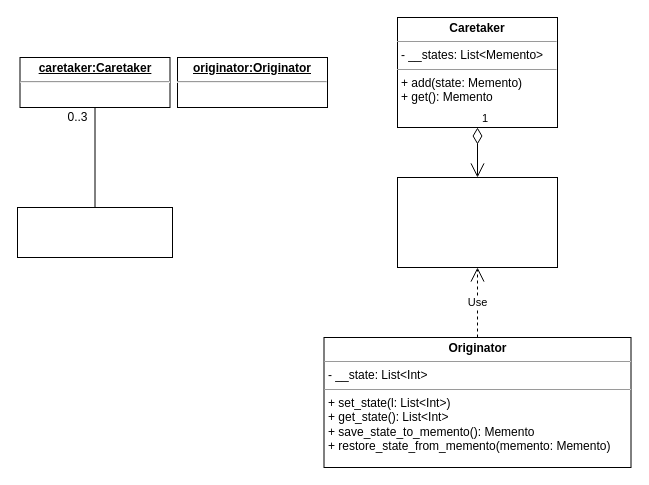
Image size: 649x485. Some labels were removed from this diagram. The centre of each missing label's shape, as x and y in pixels:
"__states[?]:Memento" goes at point 94,232.
"Memento - __state: List<Int> + get_state(): List<Int>" goes at point 477,222.
